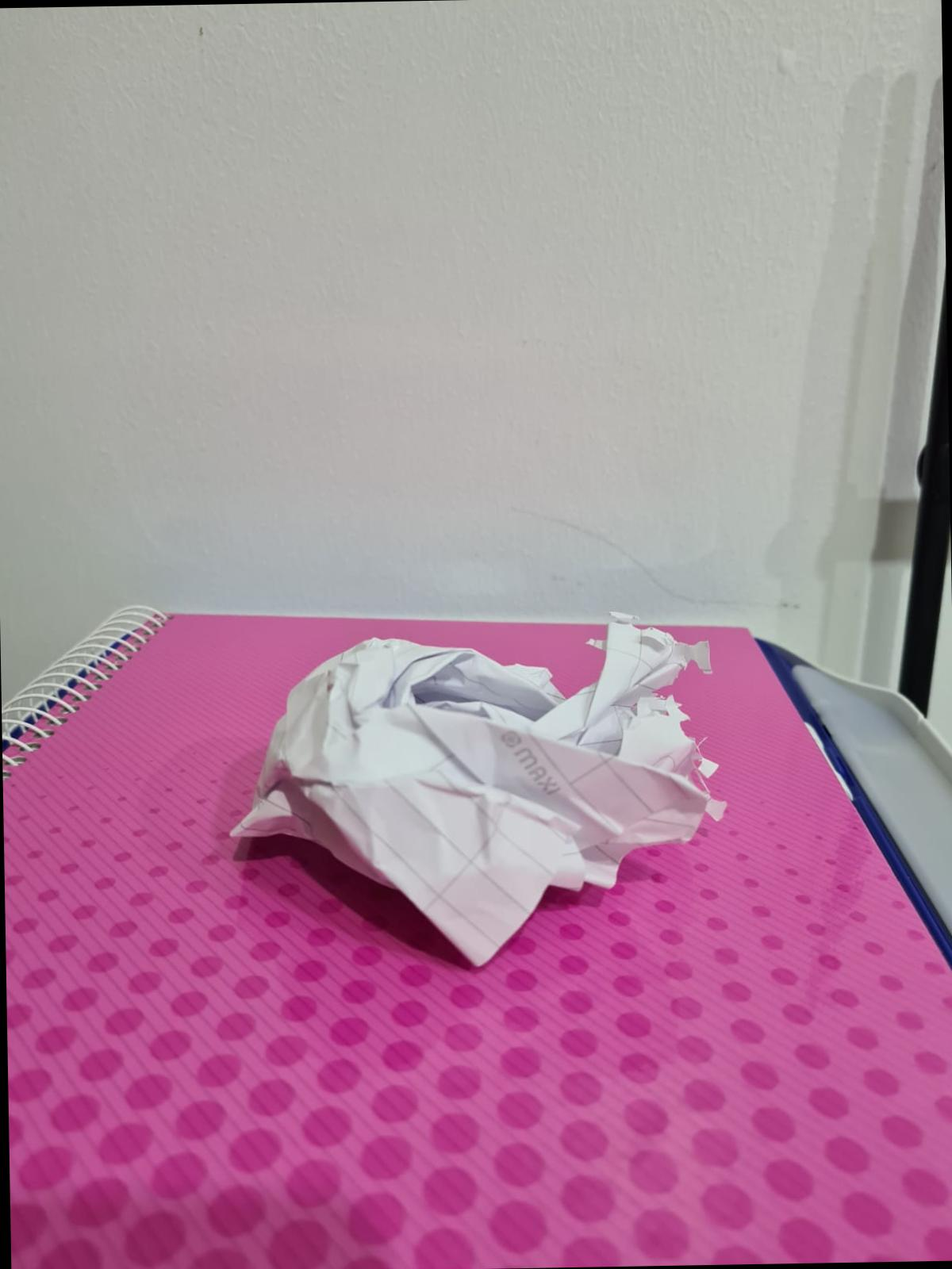Kertas: (230, 614, 723, 965), (291, 625, 699, 964)
